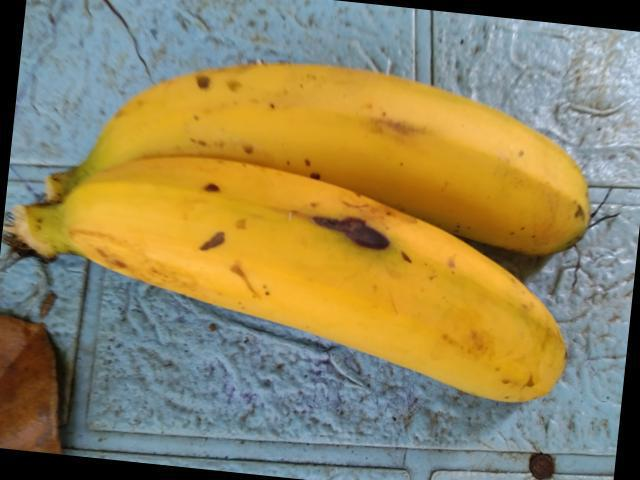freshripe: (80, 39, 590, 220)
ripe: (69, 160, 581, 423)
